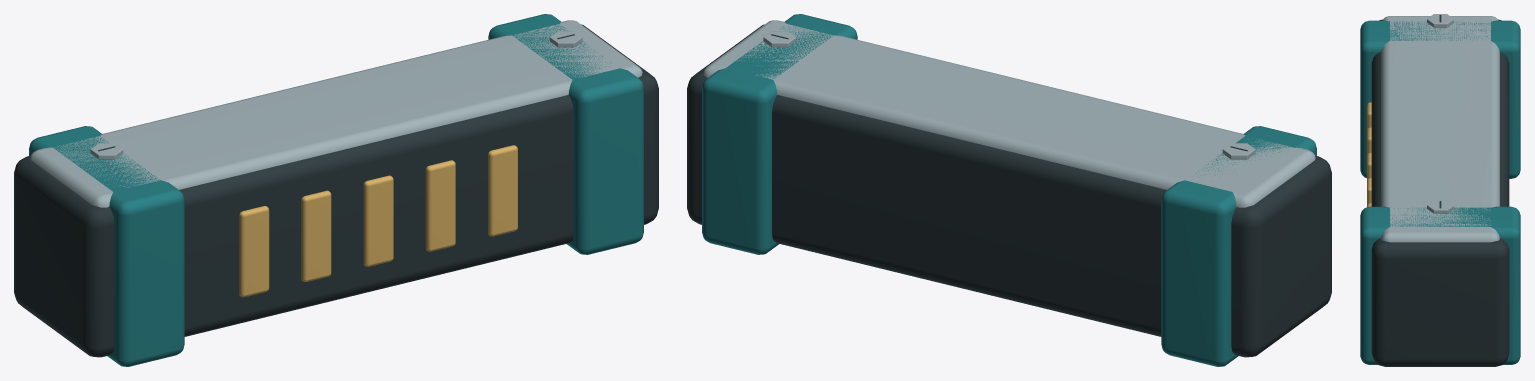
Rendered from SM_VBarrier.fbx.
3 views of the same model, side by side, from view 1: azimuth 30°, elevation 25°; view 2: azimuth 150°, elevation 25°; view 3: azimuth 270°, elevation 25° (orthographic). The views are drawn at different scales.
Parts seen in each view (by area): view 1: SM_VBarrier; view 2: SM_VBarrier; view 3: SM_VBarrier.
Part boxes in pixels (bbox=[...]): SM_VBarrier: bbox=[14, 14, 658, 366]; SM_VBarrier: bbox=[687, 14, 1331, 366]; SM_VBarrier: bbox=[1360, 14, 1520, 366].
Size of the model in its own units: 120 by 35 by 36.09.
